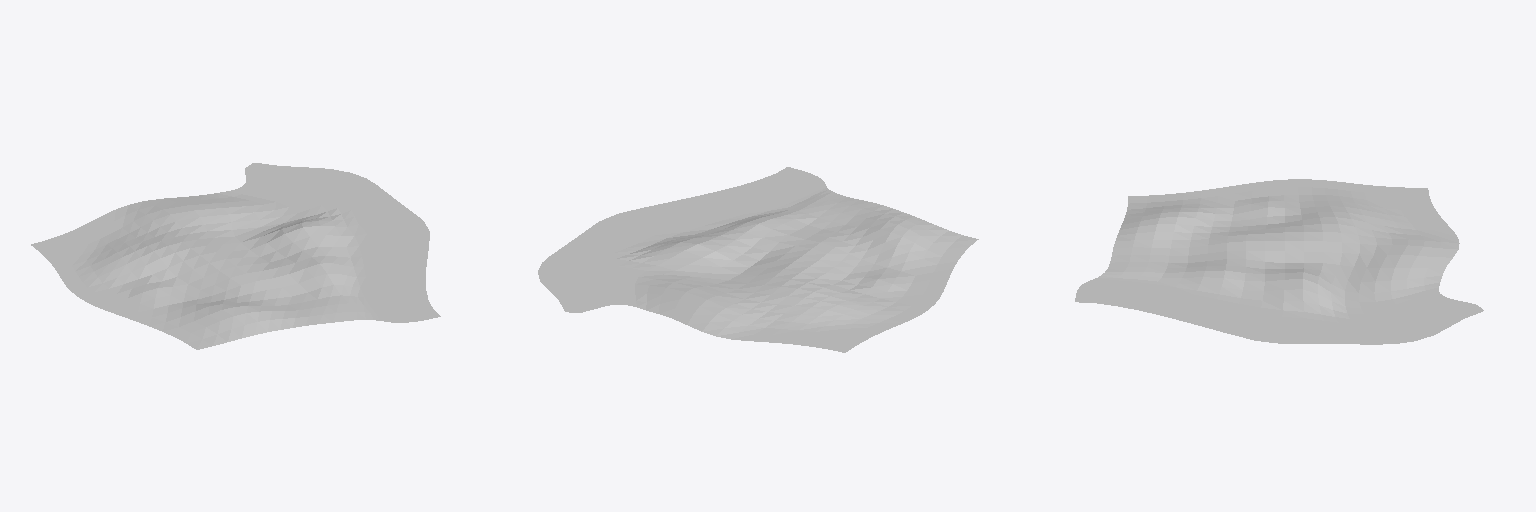
File: BallroomTableCloth.obj
The picture shows the model from 3 angles: view 1: azimuth 30°, elevation 25°; view 2: azimuth 150°, elevation 25°; view 3: azimuth 270°, elevation 25°; orthographic projection.
Parts seen in each view (by area): view 1: Plane_Plane.003; view 2: Plane_Plane.003; view 3: Plane_Plane.003.
Boxes of the visible parts, box(x1,y1,x2,y2) form: Plane_Plane.003: box(31, 163, 440, 349); Plane_Plane.003: box(538, 167, 978, 352); Plane_Plane.003: box(1075, 179, 1483, 344).
Bounding box in the file's own units: 1.26 × 0.0422 × 1.32.